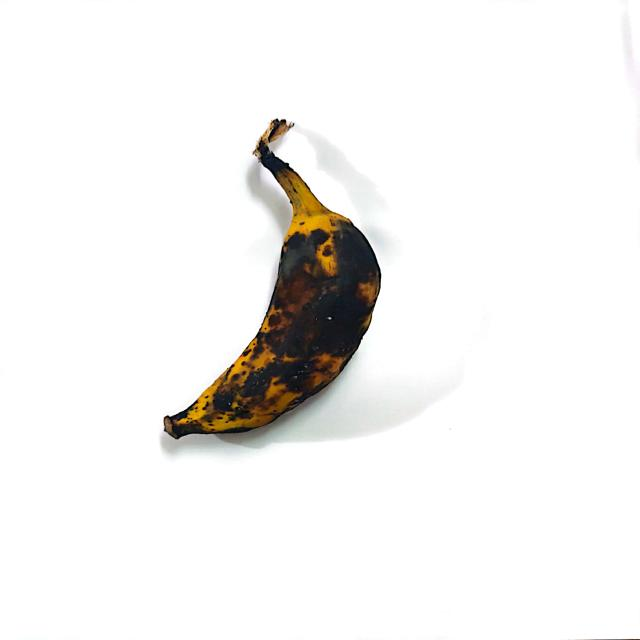rotten_banana: (167, 142, 386, 440)
